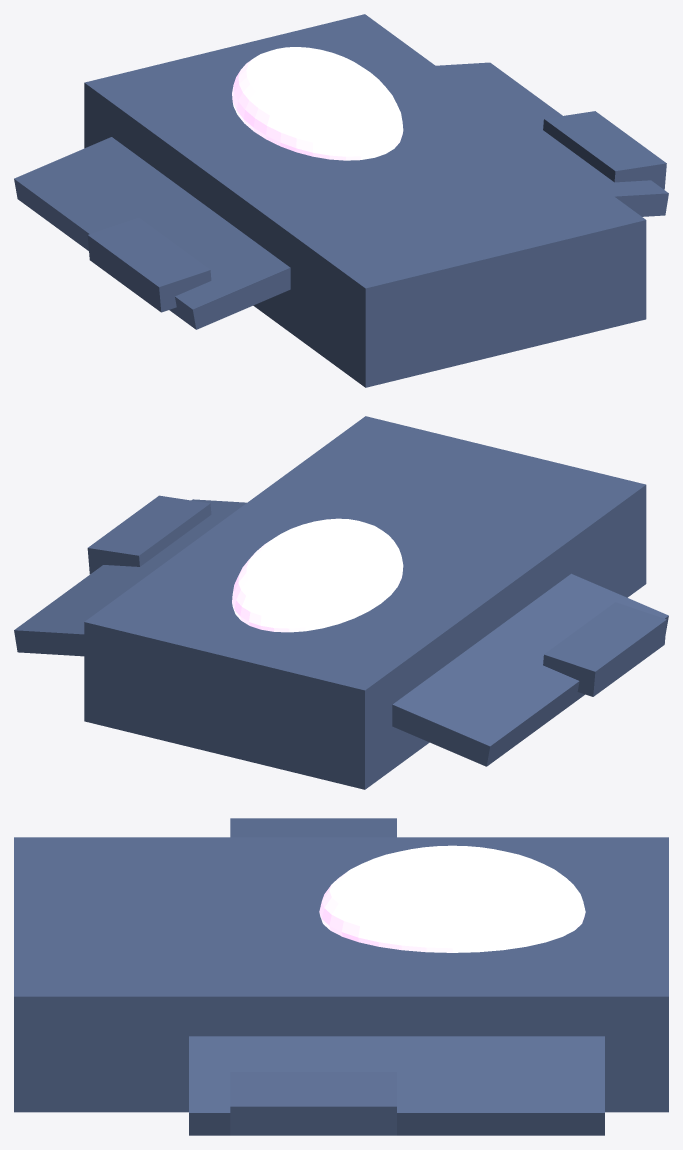
The model's file is warden_t1.glb.
3 views of the same model, one above another, from view 1: azimuth 30°, elevation 25°; view 2: azimuth 150°, elevation 25°; view 3: azimuth 270°, elevation 25° (orthographic). The views are drawn at different scales.
Parts seen in each view (by area): view 1: Cube, Cube.002, Sphere, Cube.005, Cube.001, Cube.004; view 2: Cube, Cube.002, Sphere, Cube.001, Cube.005, Cube.004; view 3: Cube, Cube.001, Sphere, Cube.004, Cube.005.
Boxes of the visible parts, <box> form: Cube: <box>84,14,646,387</box>; Cube.002: <box>14,137,290,329</box>; Sphere: <box>232,47,403,160</box>; Cube.005: <box>87,218,211,312</box>; Cube.001: <box>436,62,668,216</box>; Cube.004: <box>543,111,666,189</box>; Cube: <box>84,416,646,789</box>; Cube.002: <box>392,573,668,766</box>; Sphere: <box>232,518,403,632</box>; Cube.001: <box>14,499,246,656</box>; Cube.005: <box>543,602,666,696</box>; Cube.004: <box>87,495,211,574</box>; Cube: <box>14,837,668,1112</box>; Cube.001: <box>189,1036,604,1135</box>; Sphere: <box>319,845,585,952</box>; Cube.004: <box>230,1072,396,1135</box>; Cube.005: <box>230,818,396,837</box>.
Size of the model in its own units: 2.46 by 0.7 by 2.36.
